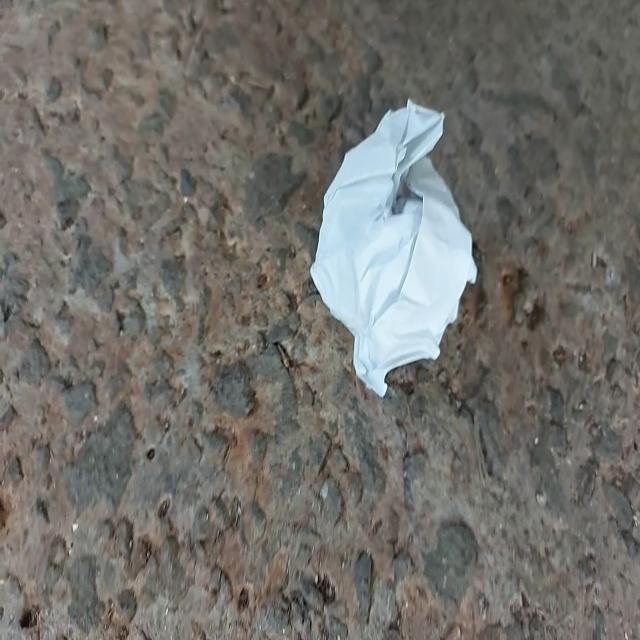Paper: (298, 77, 494, 412)
